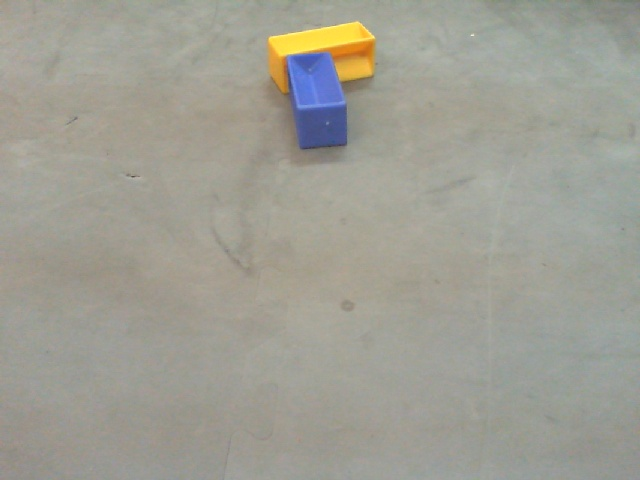BlueSample: (287, 53, 346, 151)
YellowSample: (264, 19, 390, 92)
